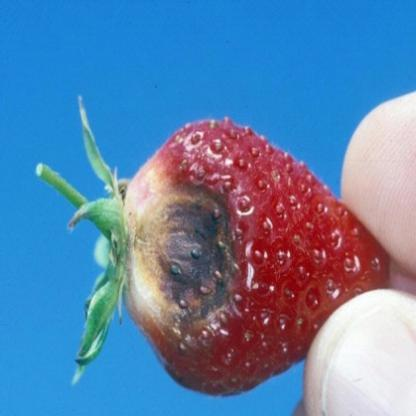Strawberry_Anthracnose_Fruit_Rot: (124, 154, 254, 356)
